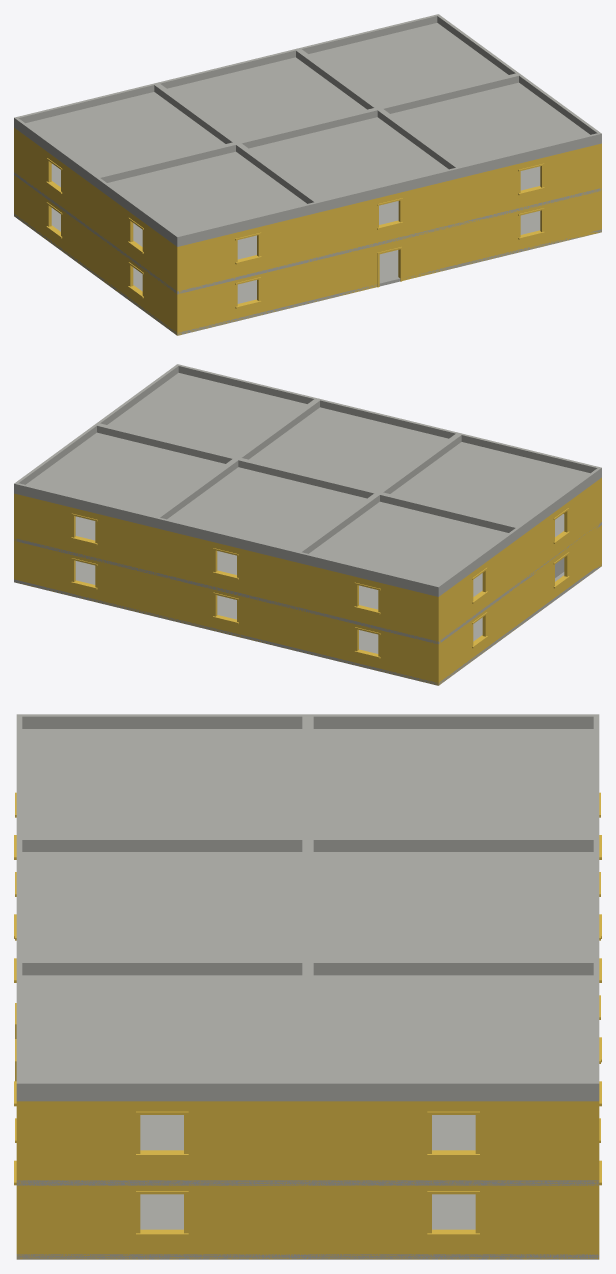
File: school_yellow.glb
3 renders of one model, top to bottom at view 1: azimuth 30°, elevation 25°; view 2: azimuth 150°, elevation 25°; view 3: azimuth 270°, elevation 25°, orthographic. The views are drawn at different scales.
Visible parts, largest first — view 1: school_yellow; view 2: school_yellow; view 3: school_yellow.
Part boxes in pixels (<box>): school_yellow: <box>14,14,601,335</box>; school_yellow: <box>14,364,601,685</box>; school_yellow: <box>14,714,601,1259</box>.
Bounding box in the file's own units: 30.18 × 6.66 × 20.18.
